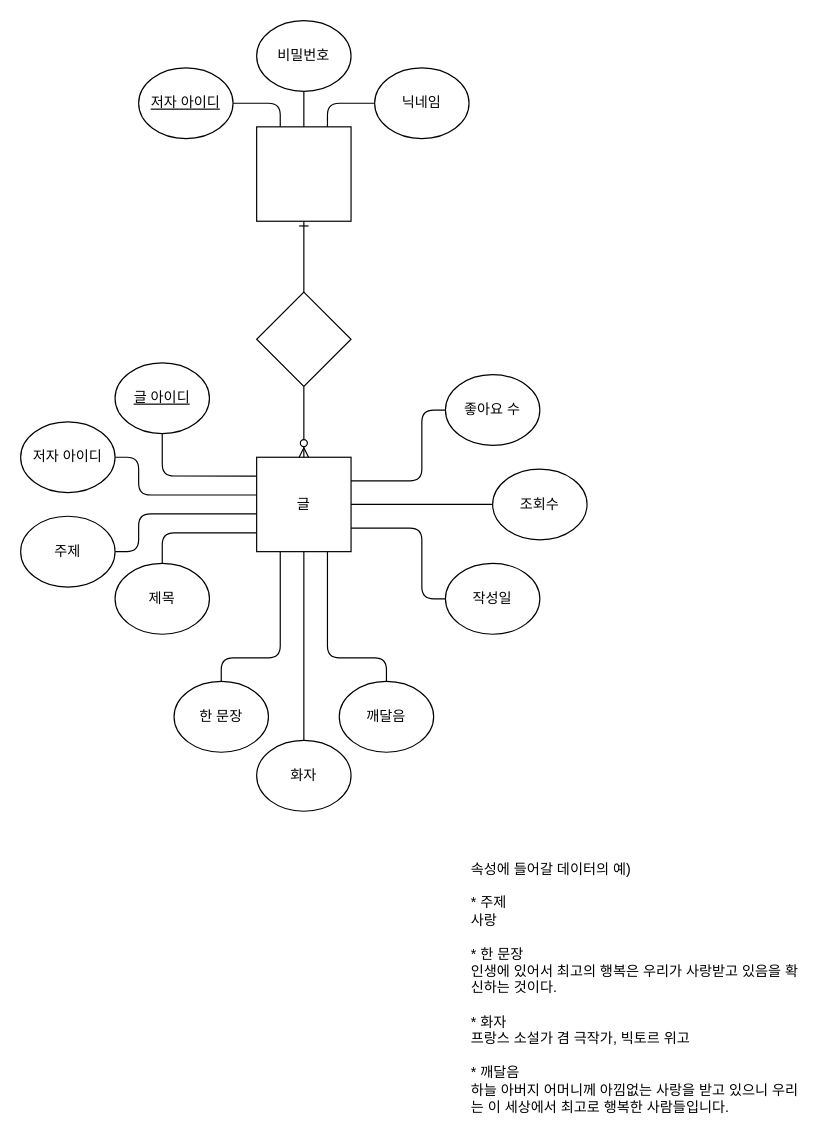
The diagram is 820 pixels wide and 1139 high, and some of its shapes have lost their labels. Here are the shapes that lost their labels. From the top down, the centre of each, then its label:
At point 303,173: "저자".
At point 303,338: "작성".
